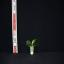leaf: (26, 40, 32, 45), (32, 39, 37, 45), (26, 43, 32, 46), (32, 43, 38, 45), (28, 45, 32, 47), (33, 45, 37, 46), (33, 46, 35, 47)
